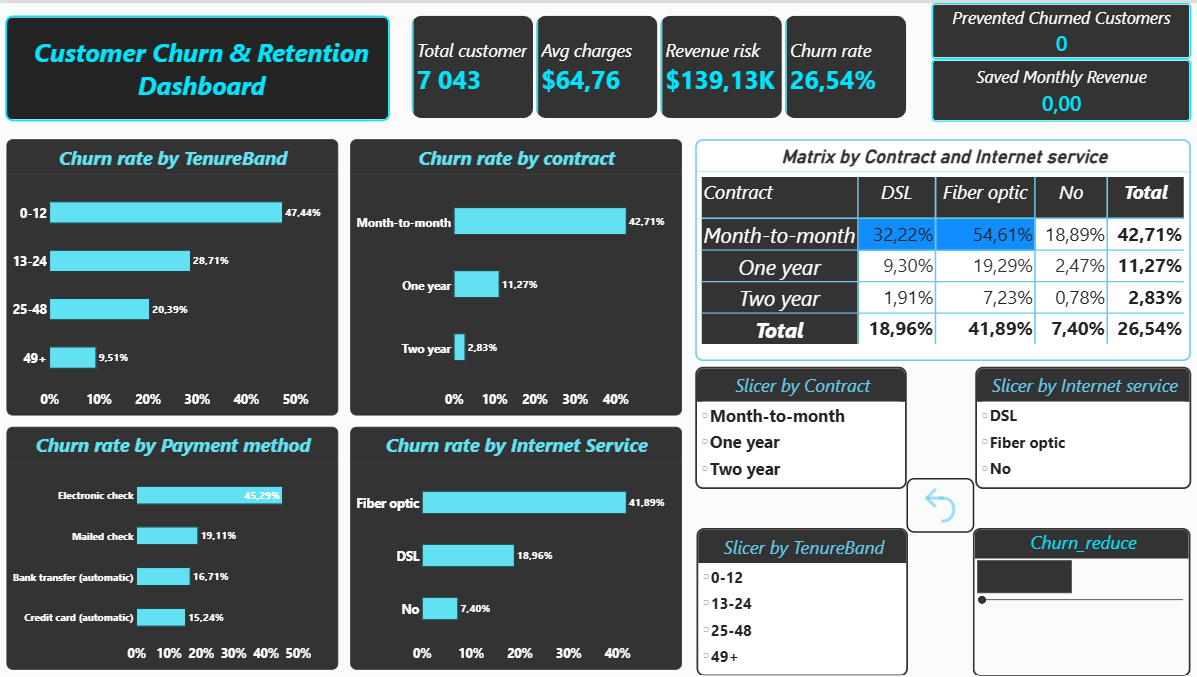

Layout of this report page (visuals, bound fields, positions):
{"tool":"powerbi","page":{"name":"Page 1","canvas":[3840,2160],"ordinal":0},"visuals":[{"type":"cardVisual","fields":{"Data":["WA_Fn-UseC_-Telco-Customer-Churn.Total_customer","WA_Fn-UseC_-Telco-Customer-Churn.Avg_monthlycharges","WA_Fn-UseC_-Telco-Customer-Churn.Monthly_revenue_risk","WA_Fn-UseC_-Telco-Customer-Churn.Churn_rate"]},"box":[1319,41.7,1586.1,329.7],"z":0},{"type":"clusteredBarChart","title":"Churn rate by contract","fields":{"Category":["WA_Fn-UseC_-Telco-Customer-Churn.Contract"],"Y":["WA_Fn-UseC_-Telco-Customer-Churn.Churn rate"]},"box":[1125.4,434.3,1061.2,883.7],"z":1000},{"type":"clusteredBarChart","title":"Churn rate by Internet Service","fields":{"Category":["WA_Fn-UseC_-Telco-Customer-Churn.InternetService"],"Y":["WA_Fn-UseC_-Telco-Customer-Churn.Churn rate"]},"box":[1125.4,1355.8,1061.2,778],"z":2000},{"type":"clusteredBarChart","title":"Churn rate by TenureBand","fields":{"Category":["WA_Fn-UseC_-Telco-Customer-Churn.TenureBand"],"Y":["WA_Fn-UseC_-Telco-Customer-Churn.Churn rate"]},"box":[22.7,434.3,1061.2,883.7],"z":3000},{"type":"clusteredBarChart","title":"Churn rate by Payment method","fields":{"Category":["WA_Fn-UseC_-Telco-Customer-Churn.PaymentMethod"],"Y":["WA_Fn-UseC_-Telco-Customer-Churn.Churn rate"]},"box":[22.7,1355.8,1061.2,778],"z":4000},{"type":"pivotTable","title":"Matrix by Contract and Internet service","fields":{"Columns":["WA_Fn-UseC_-Telco-Customer-Churn.InternetService"],"Rows":["WA_Fn-UseC_-Telco-Customer-Churn.Contract"],"Values":["WA_Fn-UseC_-Telco-Customer-Churn.Churn rate"]},"box":[2229.5,434.3,1585.3,709.4],"z":5000},{"type":"listSlicer","title":"Slicer by Contract","fields":{"Values":["WA_Fn-UseC_-Telco-Customer-Churn.Contract"]},"box":[2229.5,1165.4,676.8,390.9],"z":6000},{"type":"listSlicer","title":"Slicer by Internet service","fields":{"Values":["WA_Fn-UseC_-Telco-Customer-Churn.InternetService"]},"box":[3122.1,1164.5,691.3,390.9],"z":7000},{"type":"listSlicer","title":"Slicer by TenureBand","fields":{"Values":["WA_Fn-UseC_-Telco-Customer-Churn.TenureBand"]},"box":[2230.5,1681.9,676.8,474.1],"z":8000},{"type":"actionButton","box":[2905,1519.3,217,175.3],"z":10000},{"type":"slicer","title":"Churn_reduce","fields":{"Values":["Churn_reduce.Churn_reduce"]},"box":[3115.5,1681.9,697,475.8],"z":11001},{"type":"cardVisual","fields":{"Data":["WA_Fn-UseC_-Telco-Customer-Churn.Saved Monthly Revenue"]},"box":[2984.3,179.5,830.6,200.3],"z":11002},{"type":"cardVisual","fields":{"Data":["WA_Fn-UseC_-Telco-Customer-Churn.Prevented Churned Customers"]},"box":[2984.3,0,830.6,179.5],"z":11003},{"type":"actionButton","box":[20.9,41.7,1231.3,338.1],"z":11004}]}

Visuals, with their boxes in screenshot pixels (x1, y1, x2, y2), scaled from the page's 3840x2160 canvas onto the 1197x677 screenshot:
cardVisual - WA_Fn-UseC_-Telco-Customer-Churn.Total_customer x WA_Fn-UseC_-Telco-Customer-Churn.Avg_monthlycharges: 411 13 906 116
"Churn rate by contract" clusteredBarChart: 351 136 682 413
"Churn rate by Internet Service" clusteredBarChart: 351 425 682 669
"Churn rate by TenureBand" clusteredBarChart: 7 136 338 413
"Churn rate by Payment method" clusteredBarChart: 7 425 338 669
"Matrix by Contract and Internet service" pivotTable: 695 136 1189 358
"Slicer by Contract" listSlicer: 695 365 906 488
"Slicer by Internet service" listSlicer: 973 365 1189 488
"Slicer by TenureBand" listSlicer: 695 527 906 676
actionButton: 906 476 973 531
"Churn_reduce" slicer: 971 527 1188 676
cardVisual - WA_Fn-UseC_-Telco-Customer-Churn.Saved Monthly Revenue: 930 56 1189 119
cardVisual - WA_Fn-UseC_-Telco-Customer-Churn.Prevented Churned Customers: 930 0 1189 56
actionButton: 7 13 390 119
